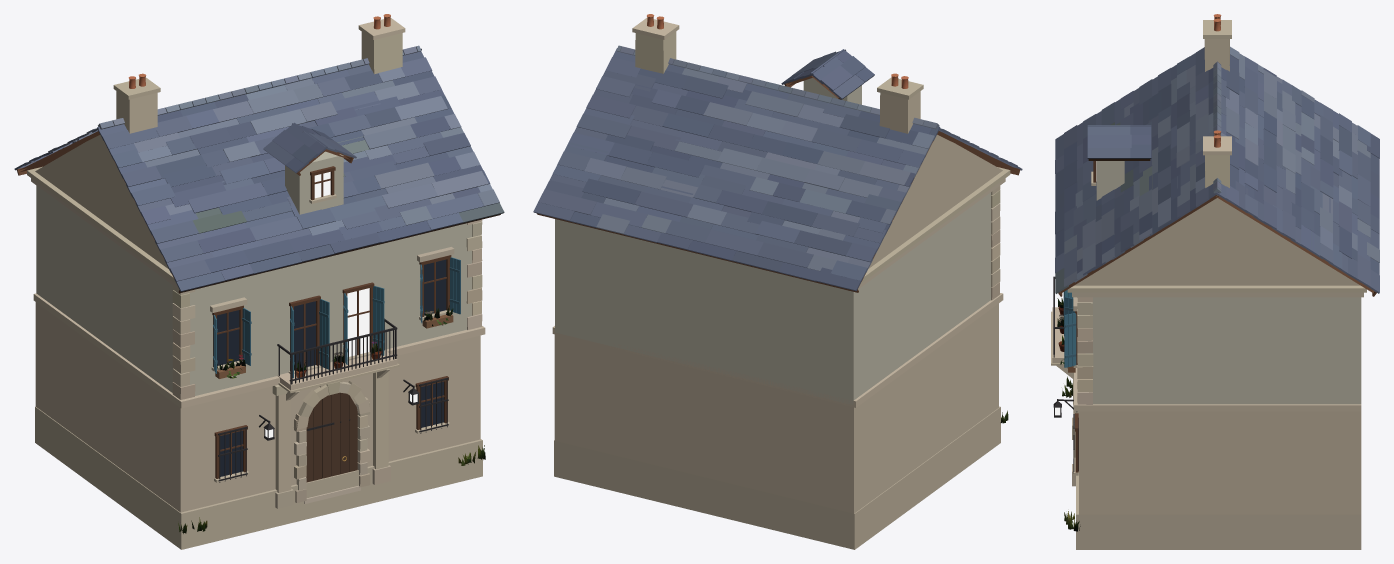
Rendered from casa_noble.glb.
The picture shows the model from 3 angles, left to right: view 1: azimuth 30°, elevation 25°; view 2: azimuth 150°, elevation 25°; view 3: azimuth 270°, elevation 25°; orthographic projection. The views are drawn at different scales.
Visible parts, largest first — view 1: casa_noble_fijo, casa_noble_vegetacion; view 2: casa_noble_fijo; view 3: casa_noble_fijo, casa_noble_vegetacion.
Boxes of the visible parts, bbox=[...] form: casa_noble_fijo: bbox=[14, 14, 504, 549]; casa_noble_vegetacion: bbox=[178, 305, 485, 533]; casa_noble_fijo: bbox=[533, 14, 1022, 549]; casa_noble_fijo: bbox=[1051, 14, 1379, 549]; casa_noble_vegetacion: bbox=[1057, 298, 1080, 531].
Bounding box in the file's own units: 10.3 × 12.58 × 9.32.
